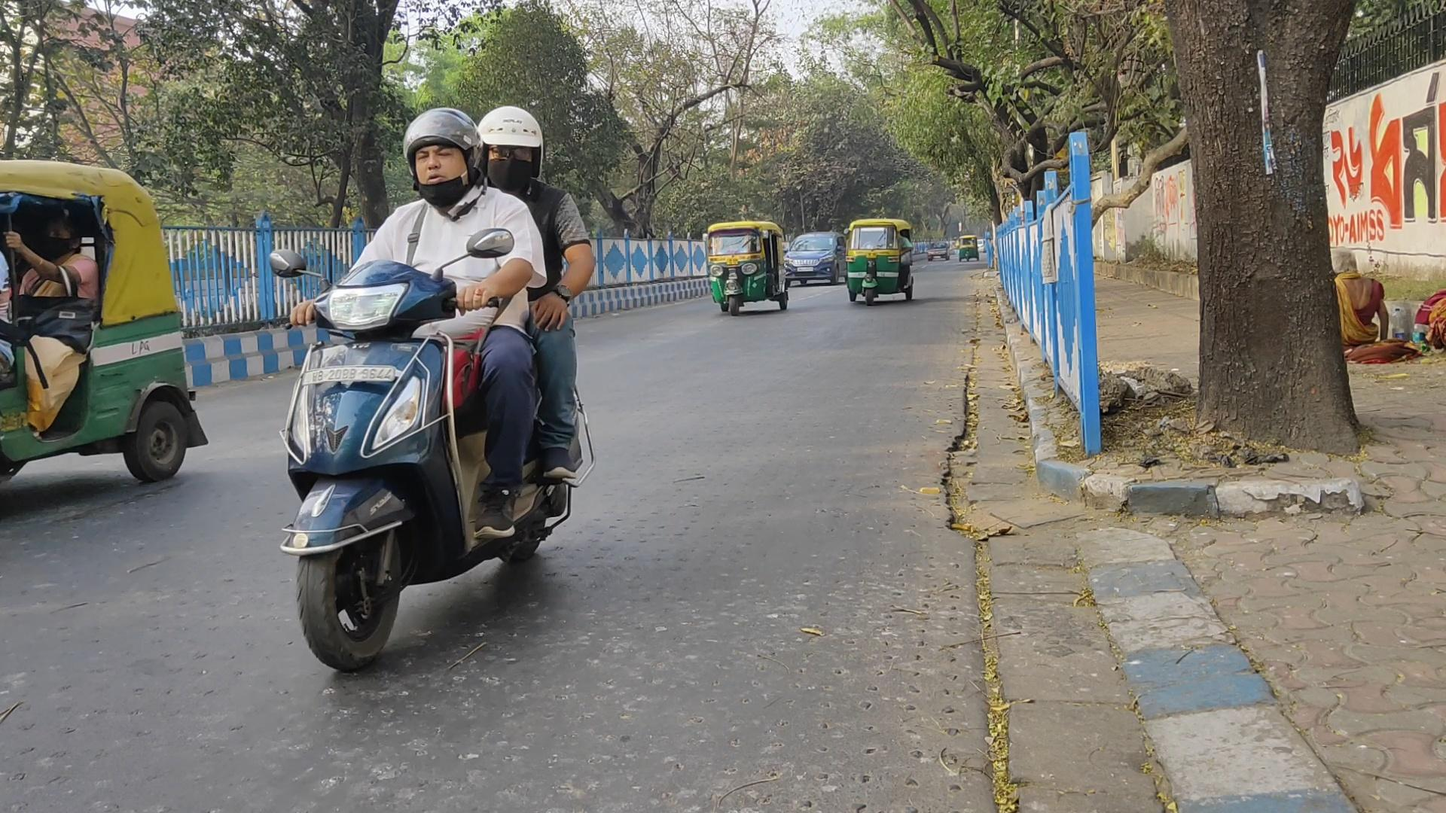Auto: (1, 159, 210, 493), (705, 221, 789, 315), (844, 218, 914, 306), (957, 236, 979, 263)
bike: (269, 105, 596, 672)
car: (786, 229, 846, 293), (926, 241, 950, 261)
